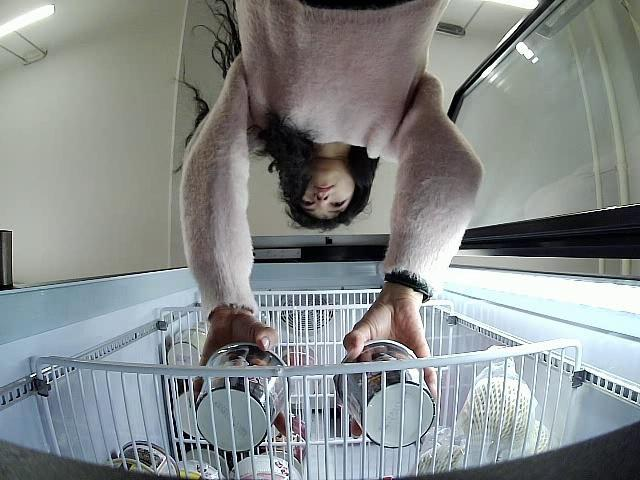08_buldak_S: (334, 338, 434, 450), (196, 342, 293, 455)
